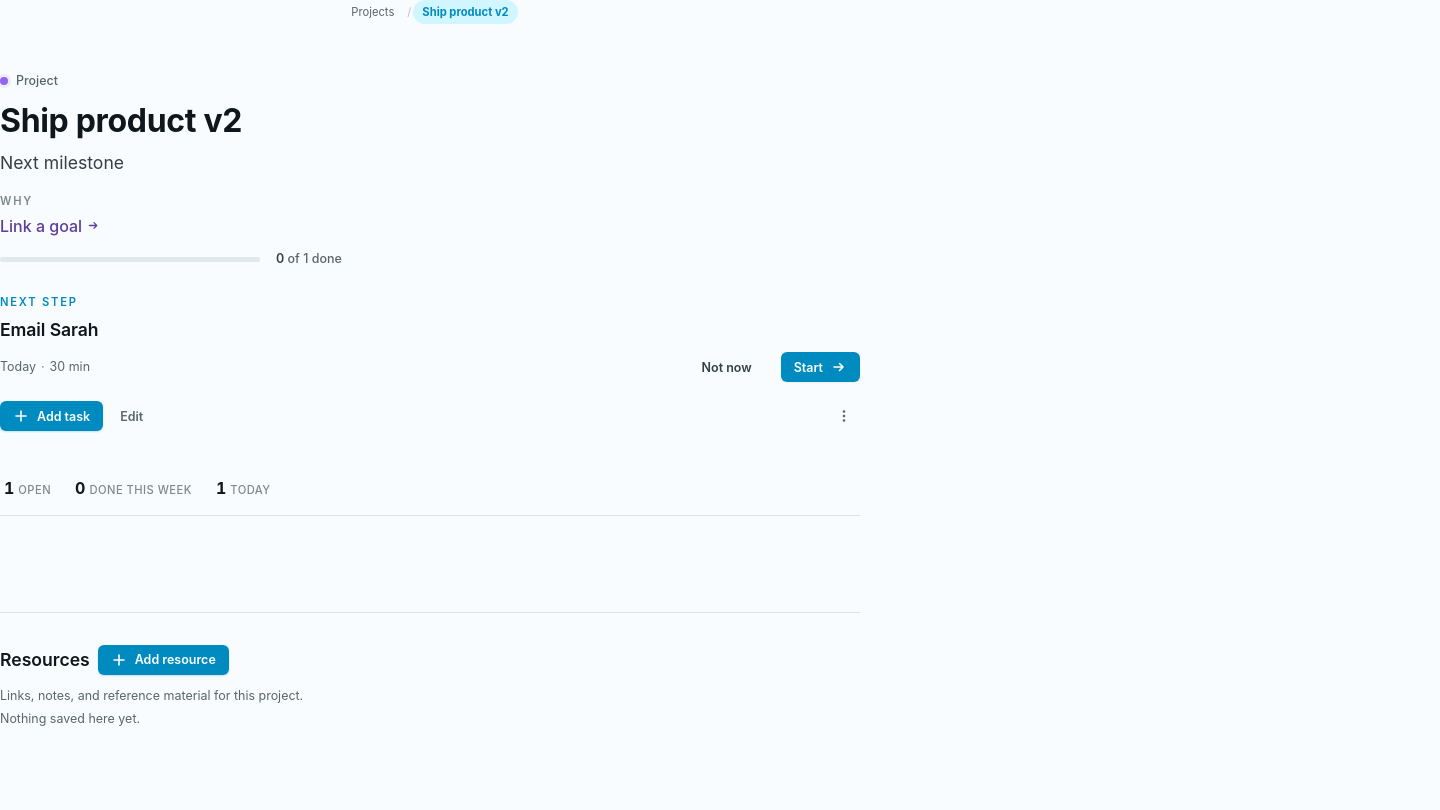
Test: ProjectDetailPage — lifecycle management › keeps Edit beside Add task and offers Archive behind the overflow menu
Expected: the button "Edit" is shown, [107,402,156,430]
Click the button named "Project actions" at (844, 416), box [828,400,860,432]
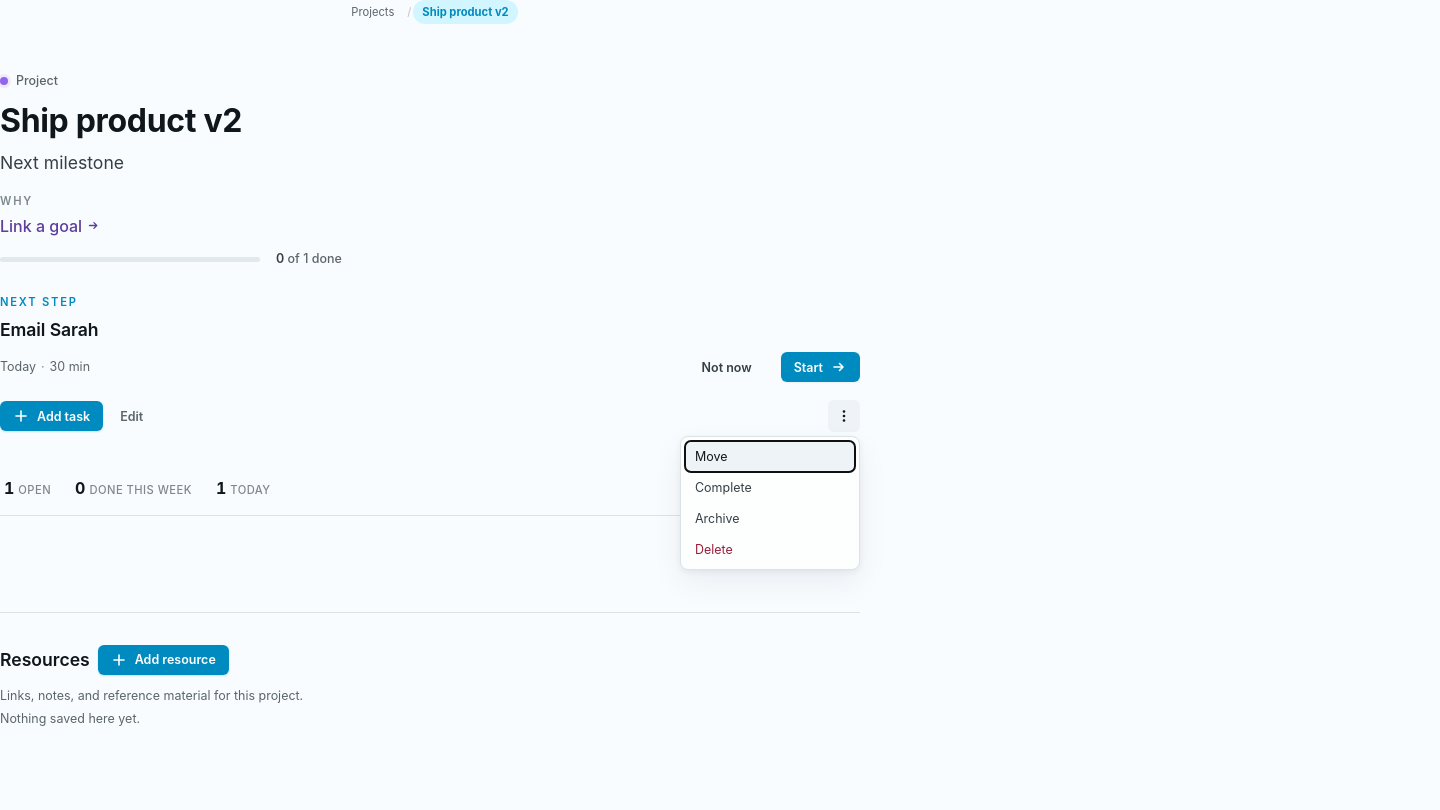
Click the menu item "Archive" at (770, 518), box [685,503,855,534]
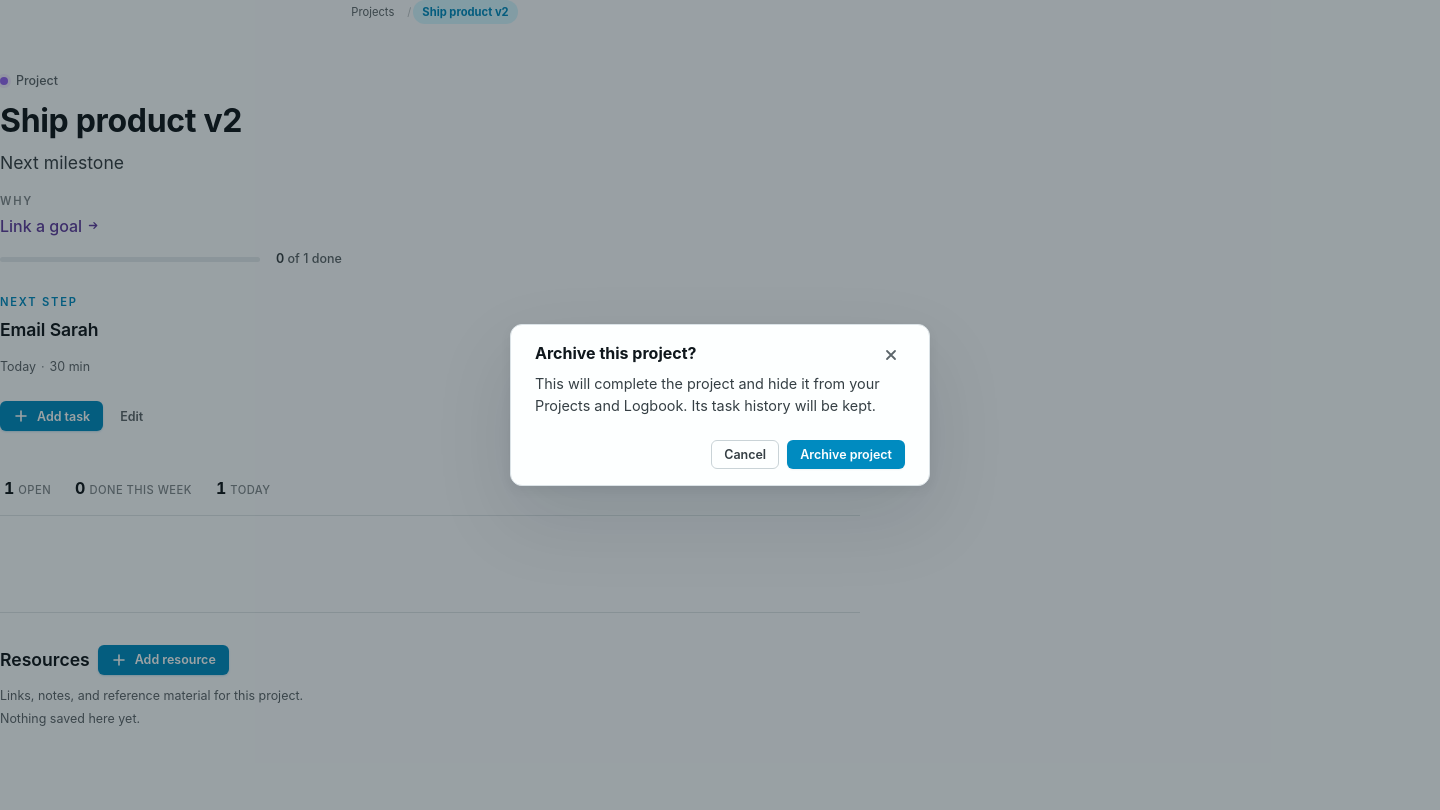
Expected: the dialog "Archive this project" is shown
